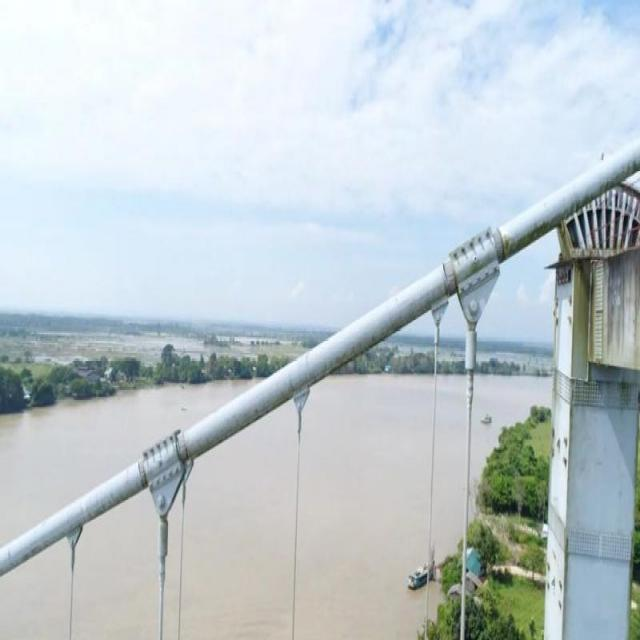Slippage: (443, 260, 458, 294), (493, 229, 505, 263), (177, 433, 188, 462), (138, 459, 148, 488)
